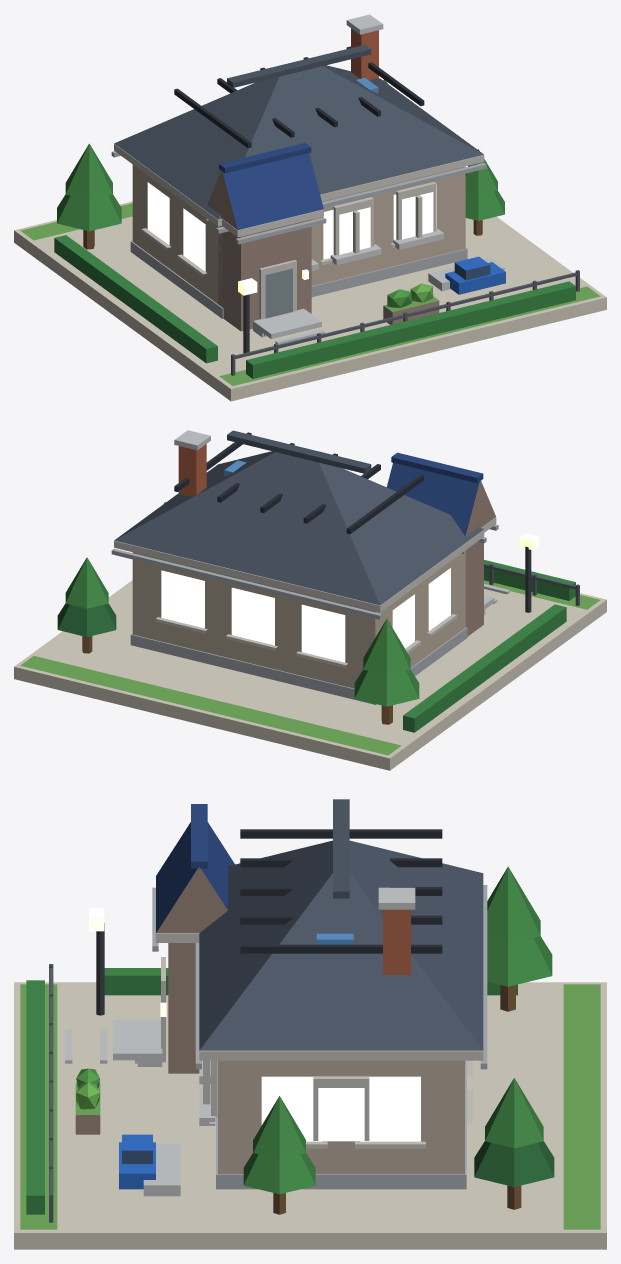
3 views of the same model, one above another, from view 1: azimuth 30°, elevation 25°; view 2: azimuth 150°, elevation 25°; view 3: azimuth 270°, elevation 25° (orthographic). The views are drawn at different scales.
Parts seen in each view (by area): view 1: b02; view 2: b02; view 3: b02.
Boxes of the visible parts, x1,y1,x2,y2 form: b02: (14, 14, 606, 401); b02: (14, 430, 606, 770); b02: (14, 799, 606, 1249).
Size of the model in its own units: 0.96 by 0.512 by 0.96.
